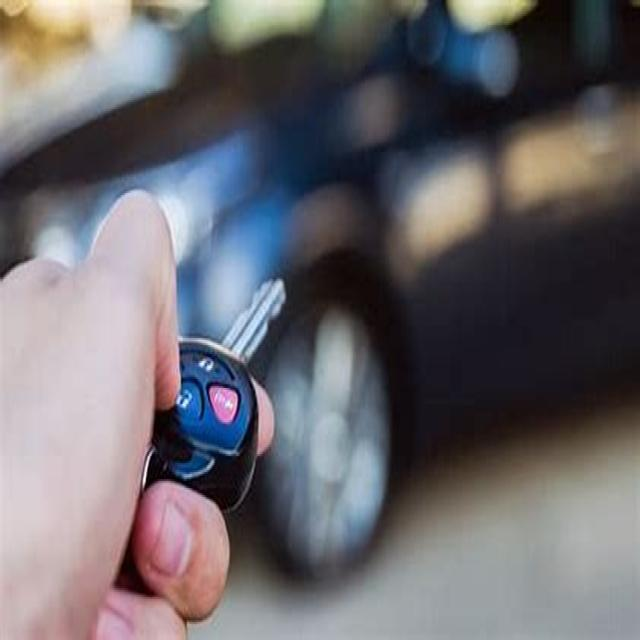key: (156, 267, 298, 497)
